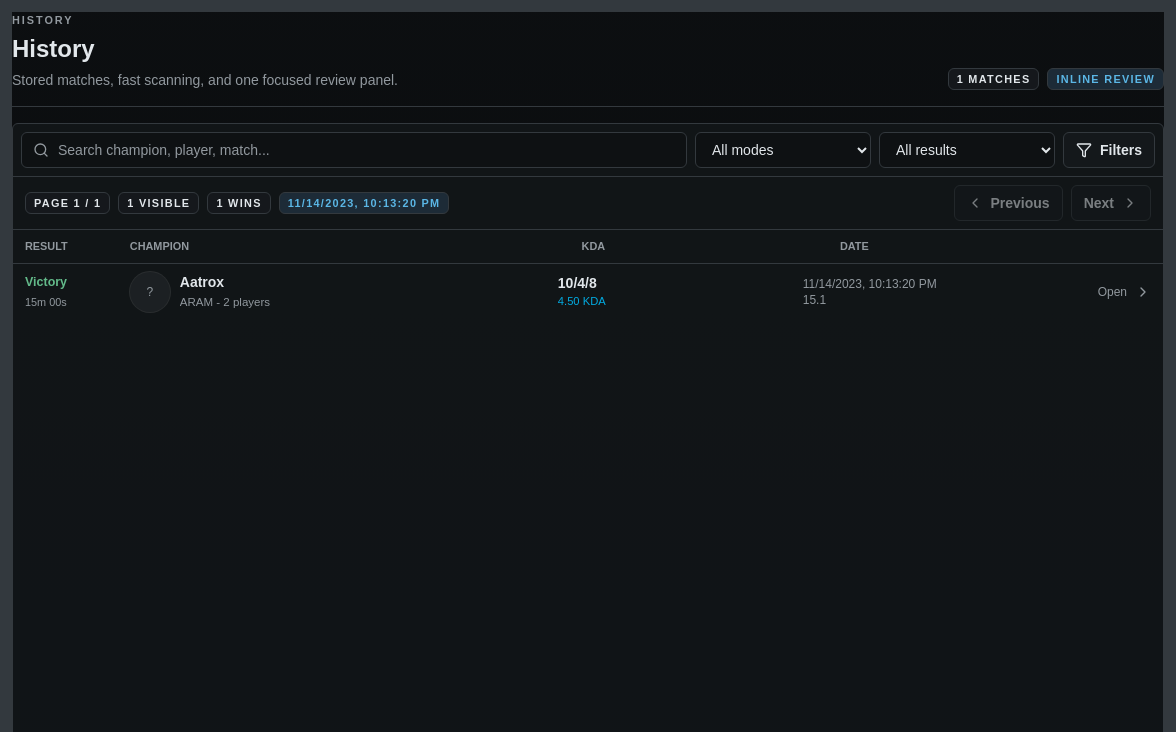
MatchHistoryPage › opens a stored match inline in the archive
The width and height of the screenshot is (1176, 732).
Expected: the text "Stored matches, fast scanning, and one focused review panel." is shown, [12,70,398,90]
Expected: the field with placeholder "Search champion, player, match..." is shown, [21,132,687,168]
What coordinates should you click on to do the following:
click the button "Aatrox"
I would click on:
 (588, 292)
Its box is [13,264,1163,320].
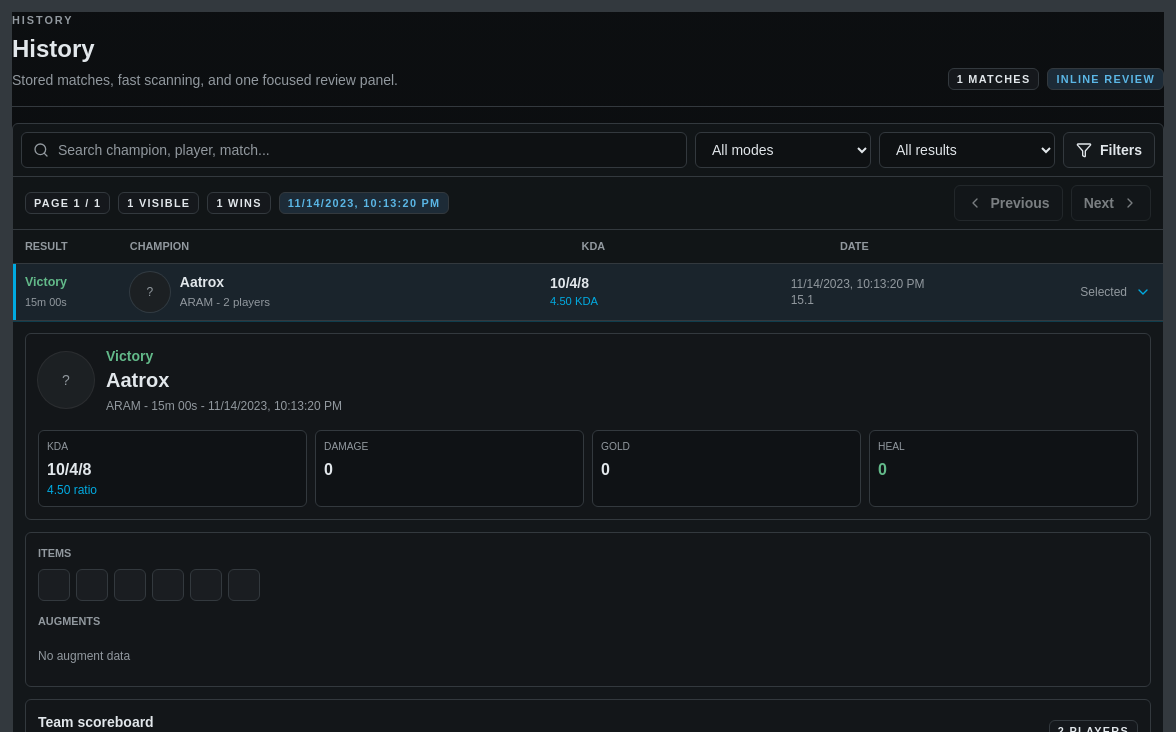
Expected: the text "Team scoreboard" is shown, [38,714,154,730]
Expected: the text "Damage" is shown, [324,441,368,452]
